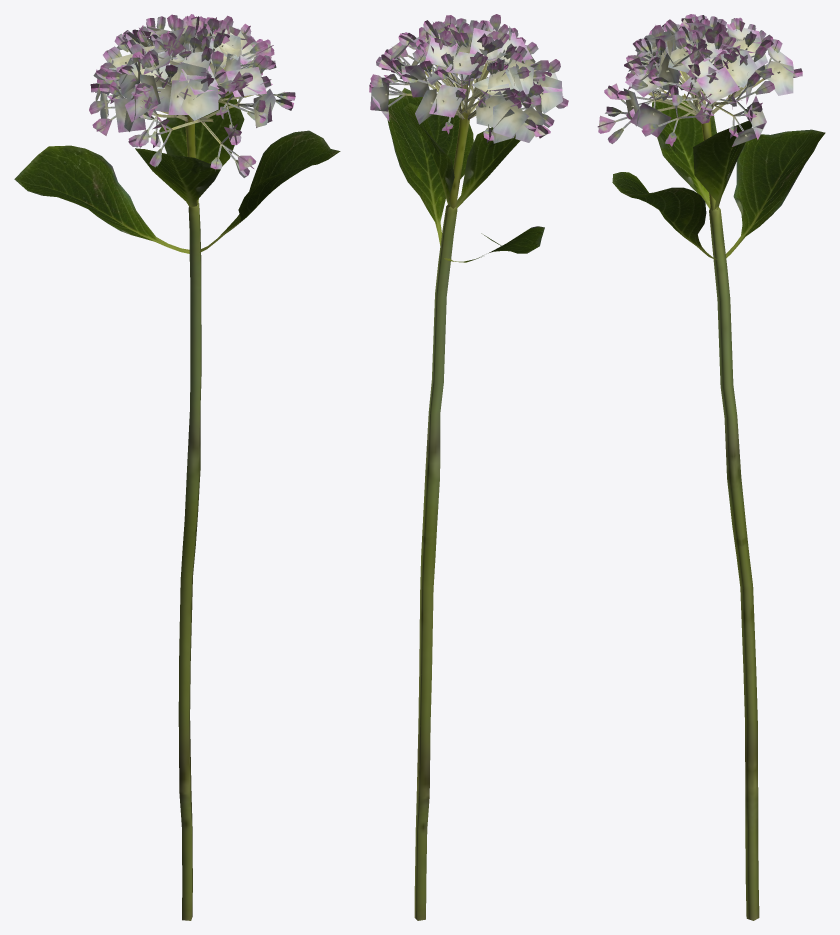
File: Hydrangea_baby_long_pink.glb
3 views of the same model, side by side, from view 1: azimuth 30°, elevation 25°; view 2: azimuth 150°, elevation 25°; view 3: azimuth 270°, elevation 25° (orthographic). The views are drawn at different scales.
Visible parts, largest first — view 1: BABY; view 2: BABY; view 3: BABY.
Part boxes in pixels (x1=…): BABY: x1=14, y1=14, x2=340, y2=920; BABY: x1=369, y1=14, x2=568, y2=920; BABY: x1=597, y1=14, x2=825, y2=920.
Bounding box in the file's own units: 0.7928 × 3.08 × 0.7195.
Materials: 1 (1 with a texture image).
